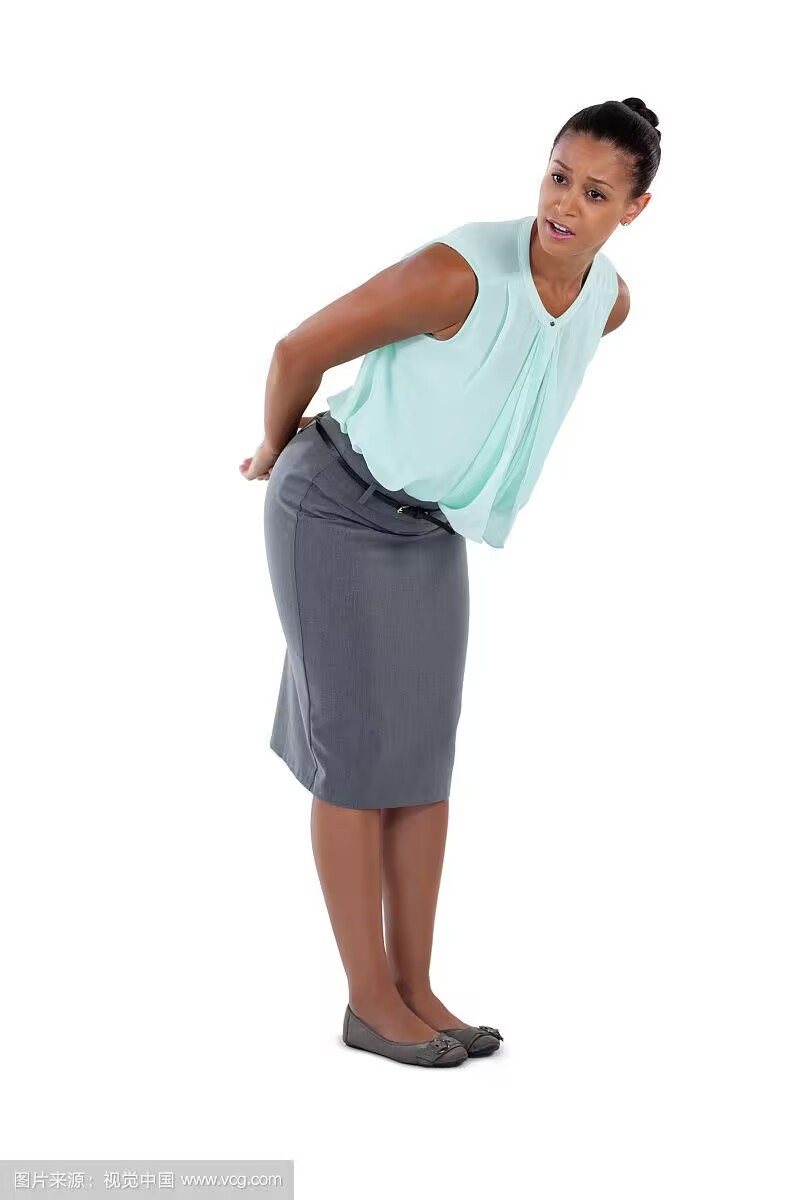bending: (208, 91, 688, 1087)
